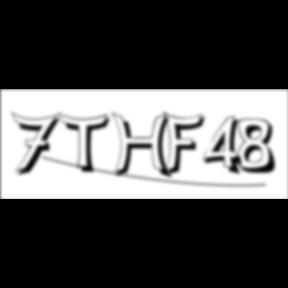4: (202, 115, 250, 179)
7: (12, 111, 66, 179)
8: (238, 117, 282, 176)
F: (163, 110, 211, 178)
H: (111, 112, 177, 182)
T: (58, 112, 116, 176)
